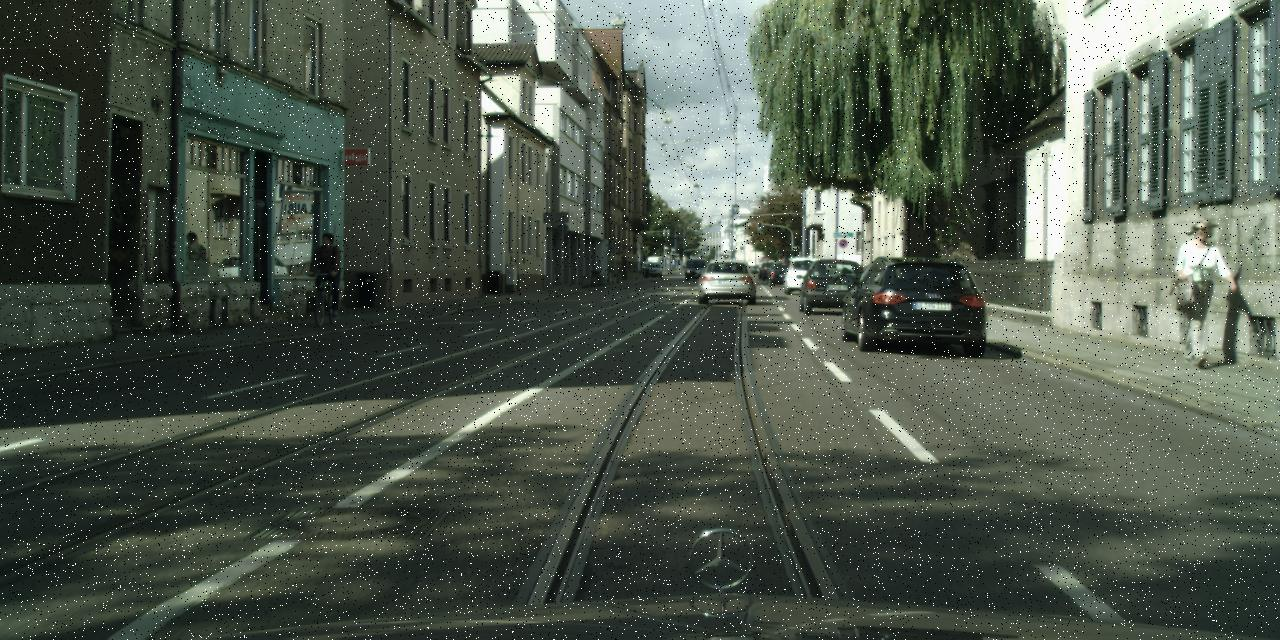ped: (1168, 217, 1228, 364), (312, 231, 344, 311)
